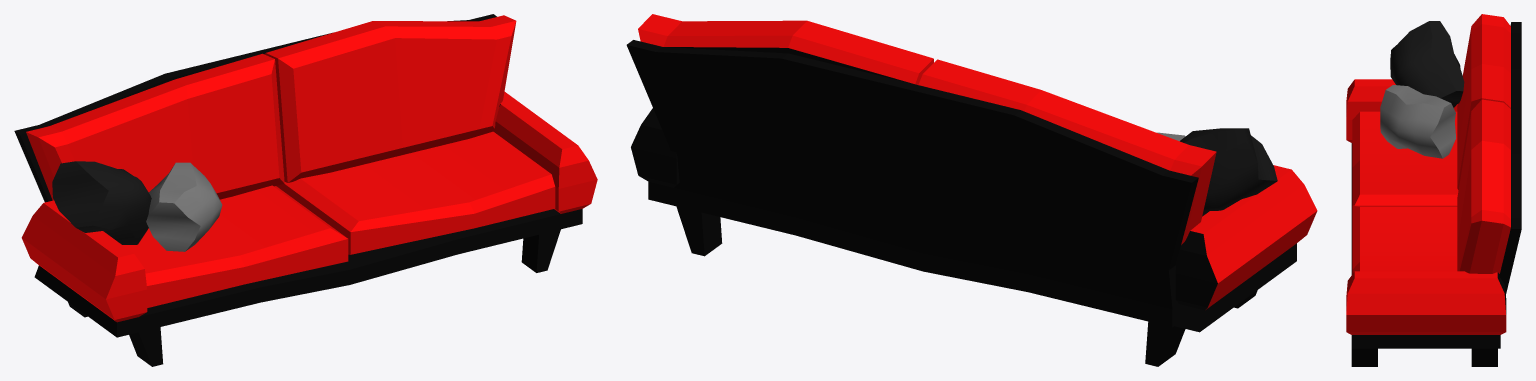
File: Couch.FBX
3 views of the same model, side by side, from view 1: azimuth 30°, elevation 25°; view 2: azimuth 150°, elevation 25°; view 3: azimuth 270°, elevation 25° (orthographic). The views are drawn at different scales.
Parts seen in each view (by area): view 1: Box037; view 2: Box037; view 3: Box037.
Boxes of the visible parts, x1,y1,x2,y2 form: Box037: (14, 14, 597, 366); Box037: (626, 14, 1317, 366); Box037: (1346, 14, 1521, 366).
Size of the model in its own units: 379 by 155 by 131.
